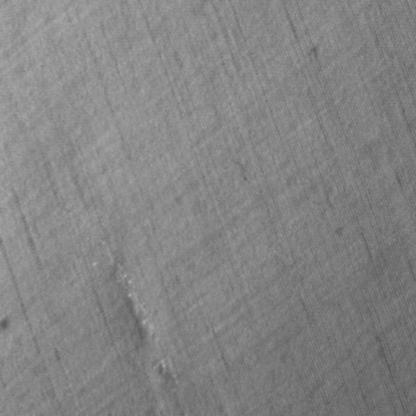thread error: (105, 250, 178, 405)
